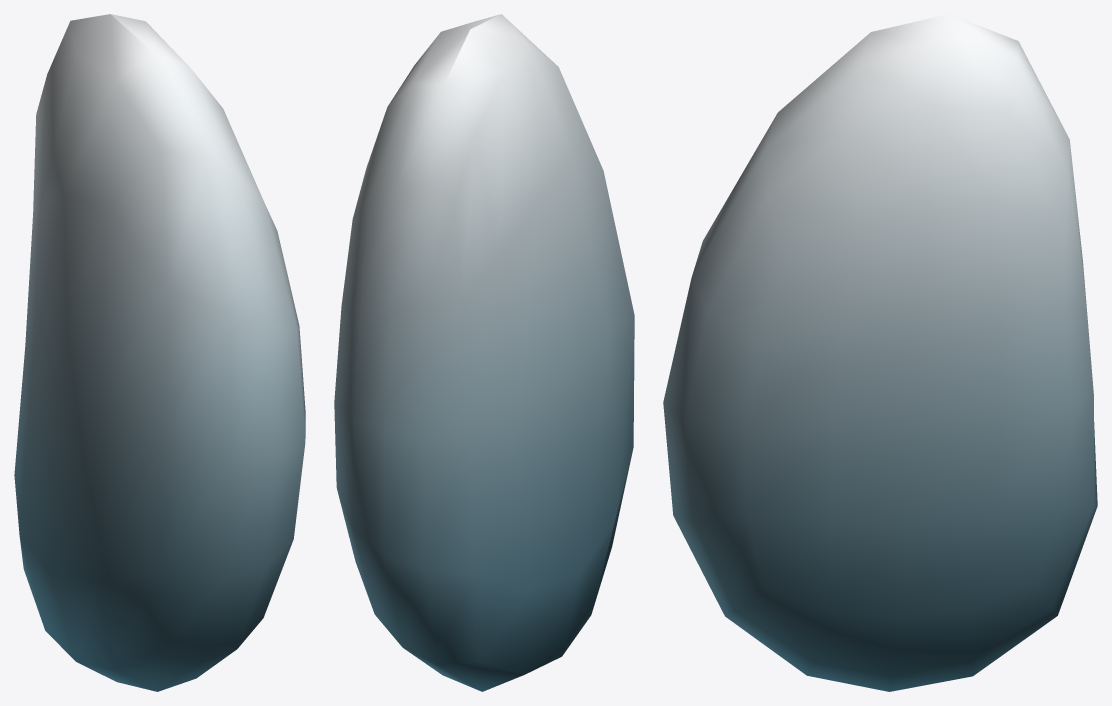
File: Rock_00.fbx
3 renders of one model, left to right at view 1: azimuth 30°, elevation 25°; view 2: azimuth 150°, elevation 25°; view 3: azimuth 270°, elevation 25°, orthographic. The views are drawn at different scales.
Parts seen in each view (by area): view 1: RockMesh_00; view 2: RockMesh_00; view 3: RockMesh_00.
Part boxes in pixels (bbox=[...]): RockMesh_00: bbox=[14, 14, 305, 691]; RockMesh_00: bbox=[334, 14, 634, 691]; RockMesh_00: bbox=[663, 14, 1097, 691].
Bounding box in the file's own units: 3132 × 10009 × 5833.
